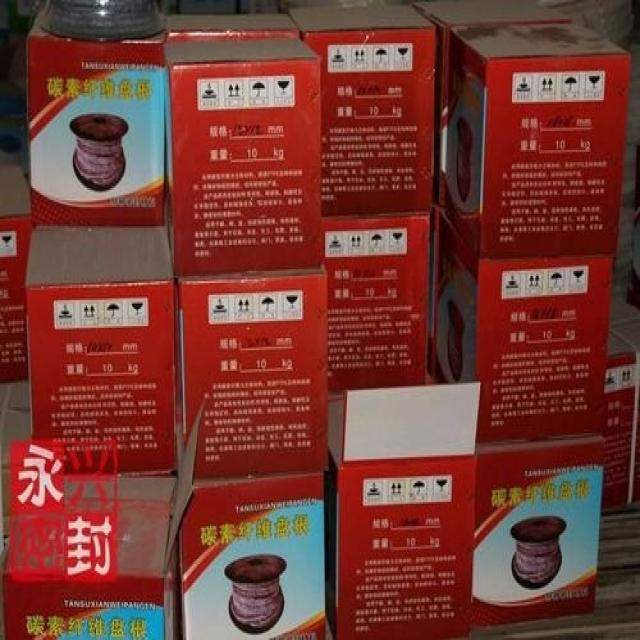box: (3, 402, 205, 640), (443, 17, 631, 257), (434, 209, 616, 443), (329, 381, 480, 640), (163, 38, 323, 278), (26, 228, 175, 478), (175, 267, 330, 476), (289, 5, 436, 216), (29, 5, 164, 228), (471, 433, 607, 631), (178, 469, 326, 640), (321, 212, 431, 388), (603, 297, 640, 509), (0, 164, 32, 381)
